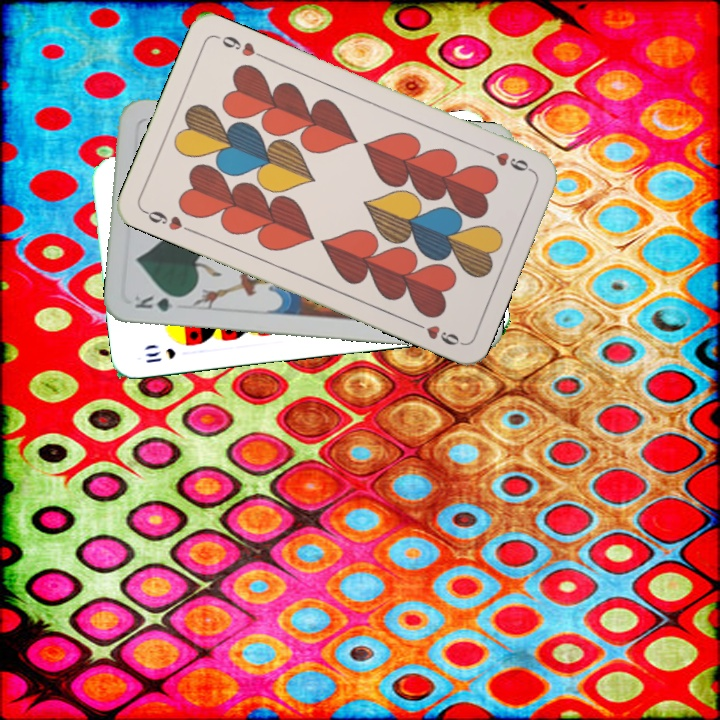GK: (130, 291, 188, 314)
H9: (479, 144, 535, 175), (139, 206, 196, 235)
S10: (141, 344, 178, 365)
